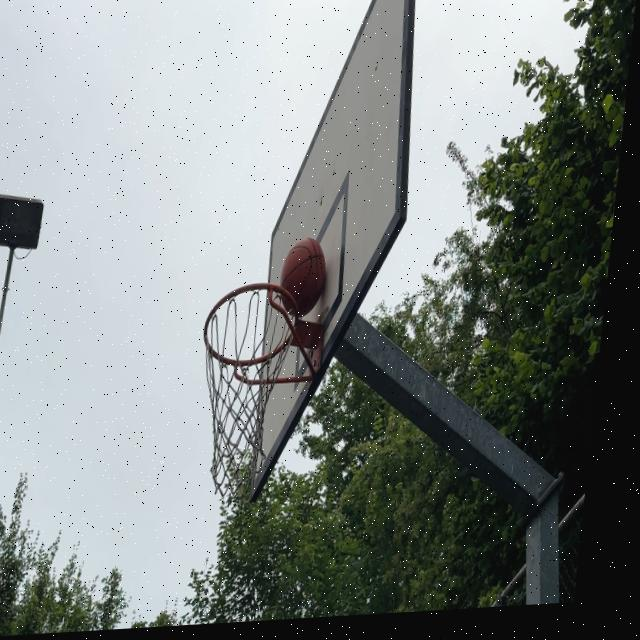rebound_hit: (277, 233, 332, 319)
